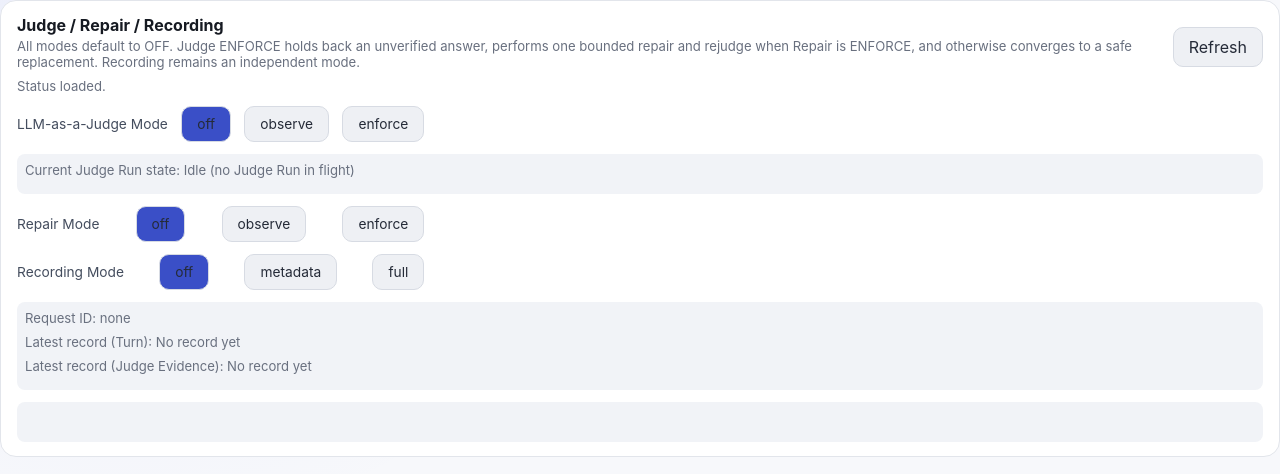
FeatureModesPanel › P9-1 UF-UI-017: a failed Judge Mode apply never notifies Judge readiness changed
This screenshot has width=1280, height=474.
Click the radio button with id "feature-modes-judge-enforce" at [383, 124], box [342,106,424,142]
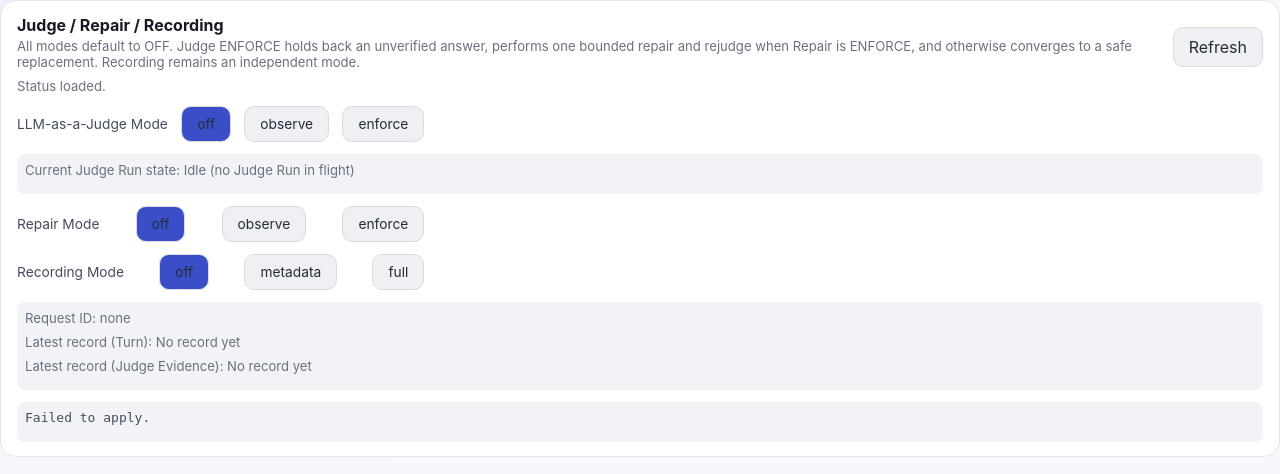
Expected: the text "Failed to apply." is shown, [17,402,1263,442]
